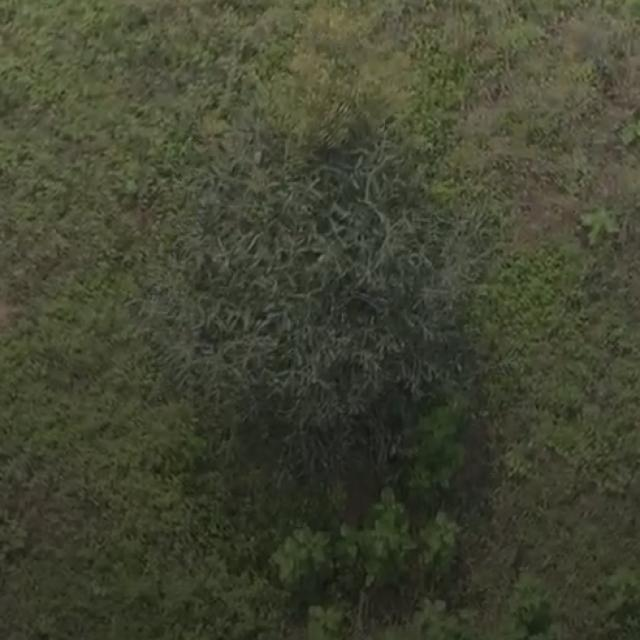notMangoTree: (140, 90, 495, 488)
